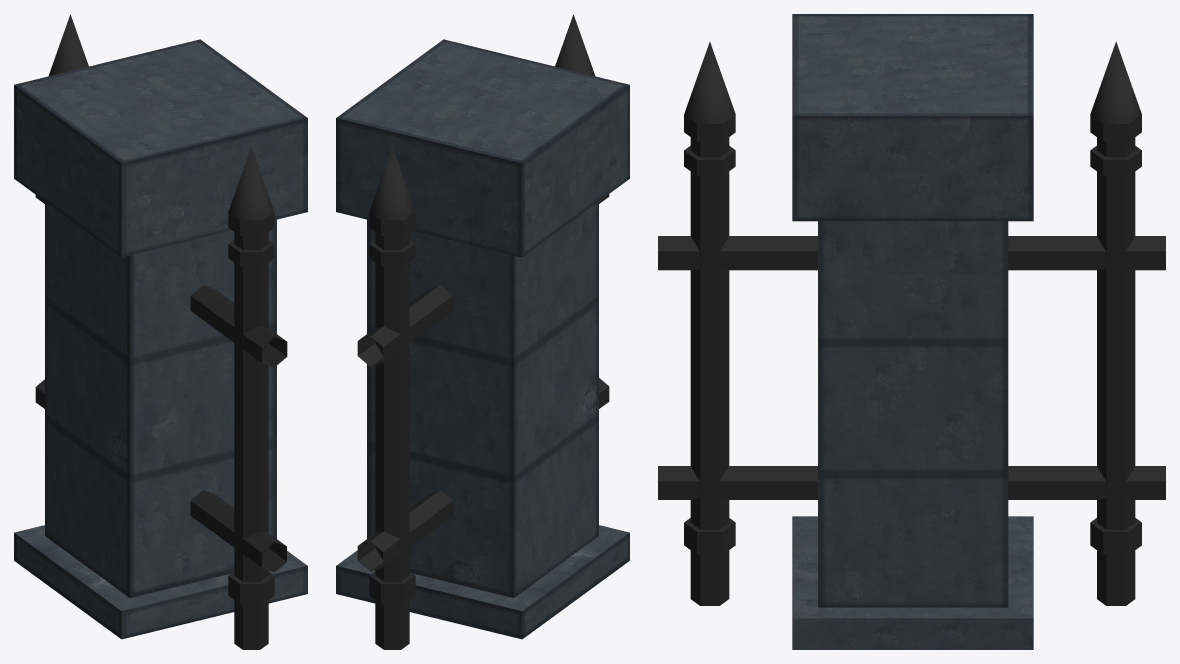
File: Fence_Pillar_Straight.fbx
The picture shows the model from 3 angles, left to right: view 1: azimuth 30°, elevation 25°; view 2: azimuth 150°, elevation 25°; view 3: azimuth 270°, elevation 25°; orthographic projection. The views are drawn at different scales.
Parts seen in each view (by area): view 1: polySurface102; view 2: polySurface102; view 3: polySurface102.
Boxes of the visible parts, x1,y1,x2,y2 form: polySurface102: (14, 14, 307, 649); polySurface102: (336, 14, 629, 649); polySurface102: (658, 14, 1165, 649).
Size of the model in its own units: 47.5 by 121 by 100.
